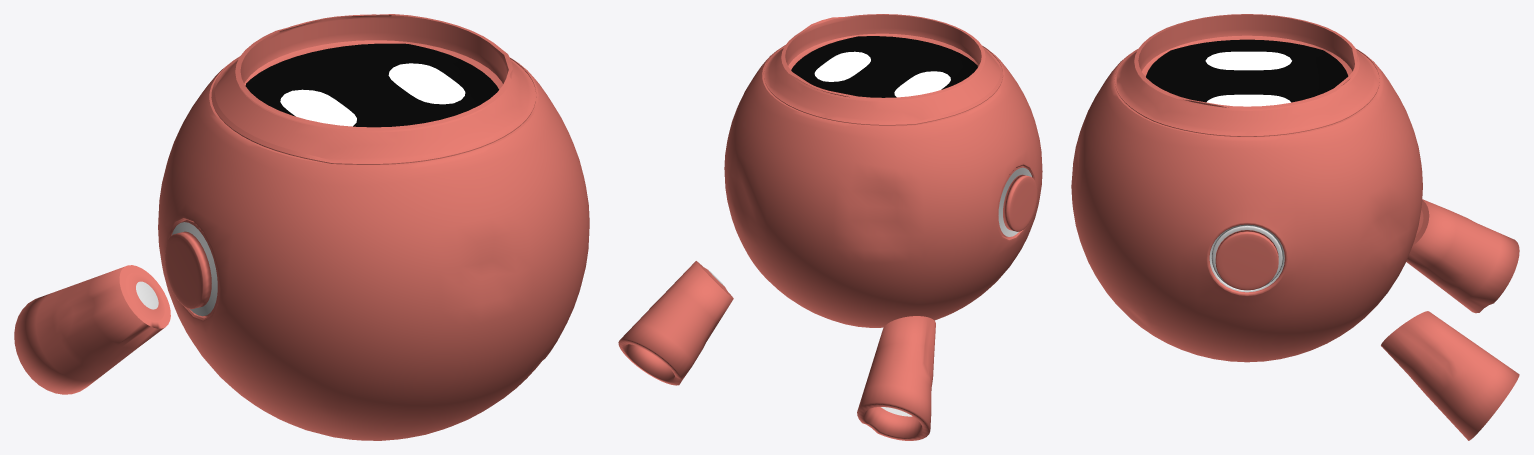
Rendered from companion2_dmg.fbx.
3 views of the same model, side by side, from view 1: azimuth 30°, elevation 25°; view 2: azimuth 150°, elevation 25°; view 3: azimuth 270°, elevation 25° (orthographic). The views are drawn at different scales.
Parts seen in each view (by area): view 1: Body, Feet, Eye, Ear; view 2: Body, Feet, Eye, Ear; view 3: Body, Feet, Ear, Eye.
Boxes of the visible parts, <box> form: Body: <box>158,14,589,440</box>; Feet: <box>14,265,170,394</box>; Eye: <box>280,63,465,126</box>; Ear: <box>165,222,217,316</box>; Body: <box>724,14,1042,327</box>; Feet: <box>618,261,935,440</box>; Eye: <box>814,51,950,97</box>; Ear: <box>998,167,1037,236</box>; Body: <box>1071,14,1422,362</box>; Feet: <box>1381,199,1519,440</box>; Ear: <box>1209,224,1284,292</box>; Eye: <box>1205,51,1291,106</box>.
Bounding box in the file's own units: 189 × 166 × 215.
